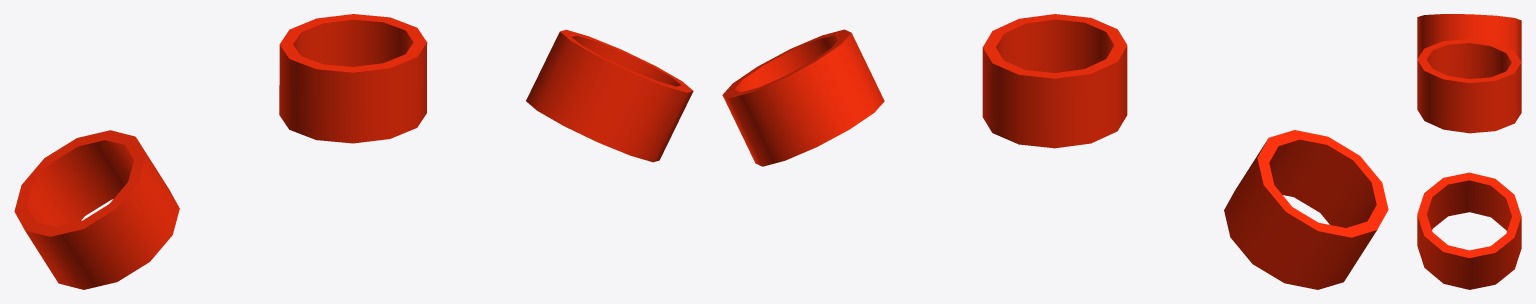
File: Tesla glow.fbx
3 renders of one model, left to right at view 1: azimuth 30°, elevation 25°; view 2: azimuth 150°, elevation 25°; view 3: azimuth 270°, elevation 25°, orthographic. The views are drawn at different scales.
Visible parts, largest first — view 1: Light Objects; view 2: Light Objects; view 3: Light Objects.
Part boxes in pixels (x1=…): Light Objects: x1=14, y1=14, x2=693, y2=289; Light Objects: x1=722, y1=14, x2=1388, y2=289; Light Objects: x1=1417, y1=14, x2=1521, y2=289.
Size of the model in its own units: 230 by 60.73 by 44.75.
